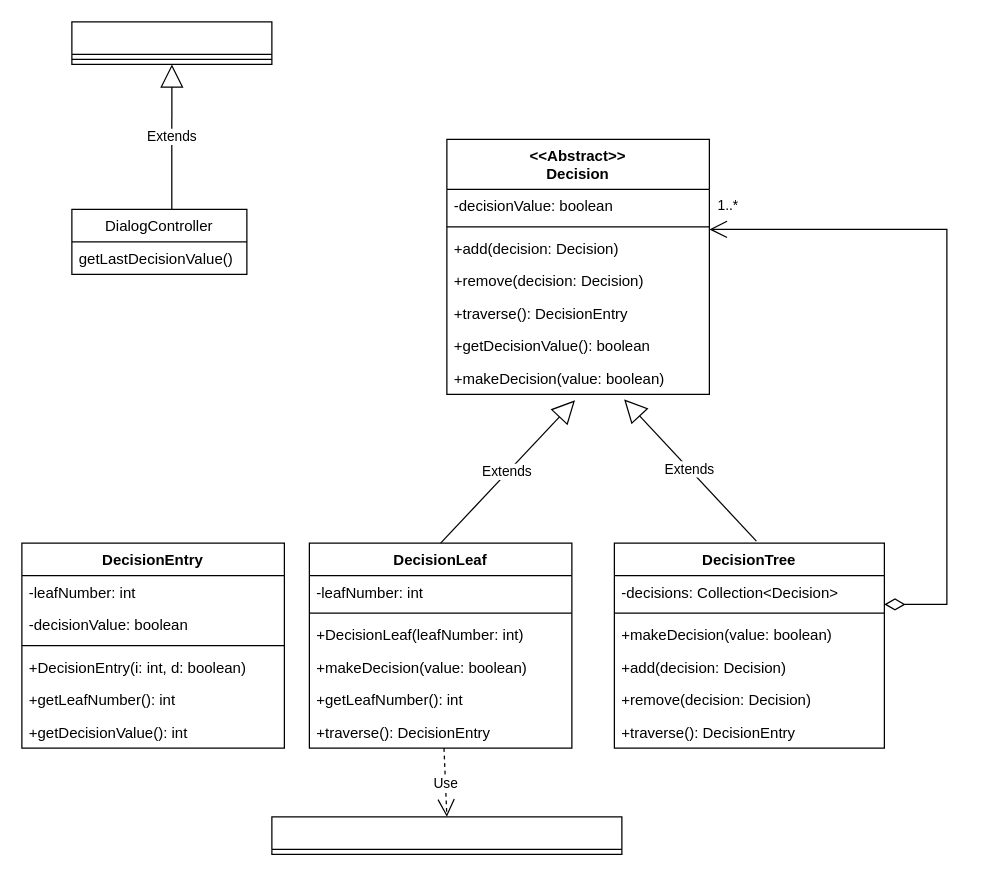
Some shapes in this 990 by 876 pixel diagram are drawn without their labels. The centre of each missing label's shape, as x and y in pixels:
GameController: the point at 171,42
java.lang.UnsopportedOperationException: the point at 446,835
